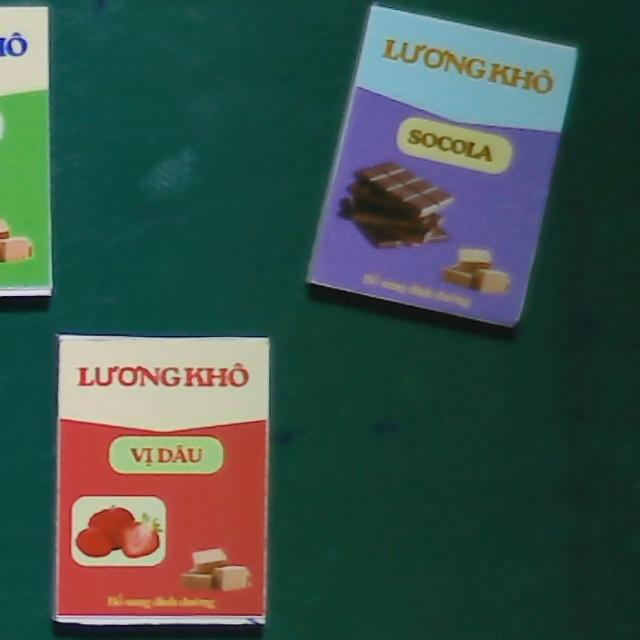dau: (53, 335, 268, 627)
kiwi: (0, 6, 52, 296)
socola: (305, 3, 579, 329)
